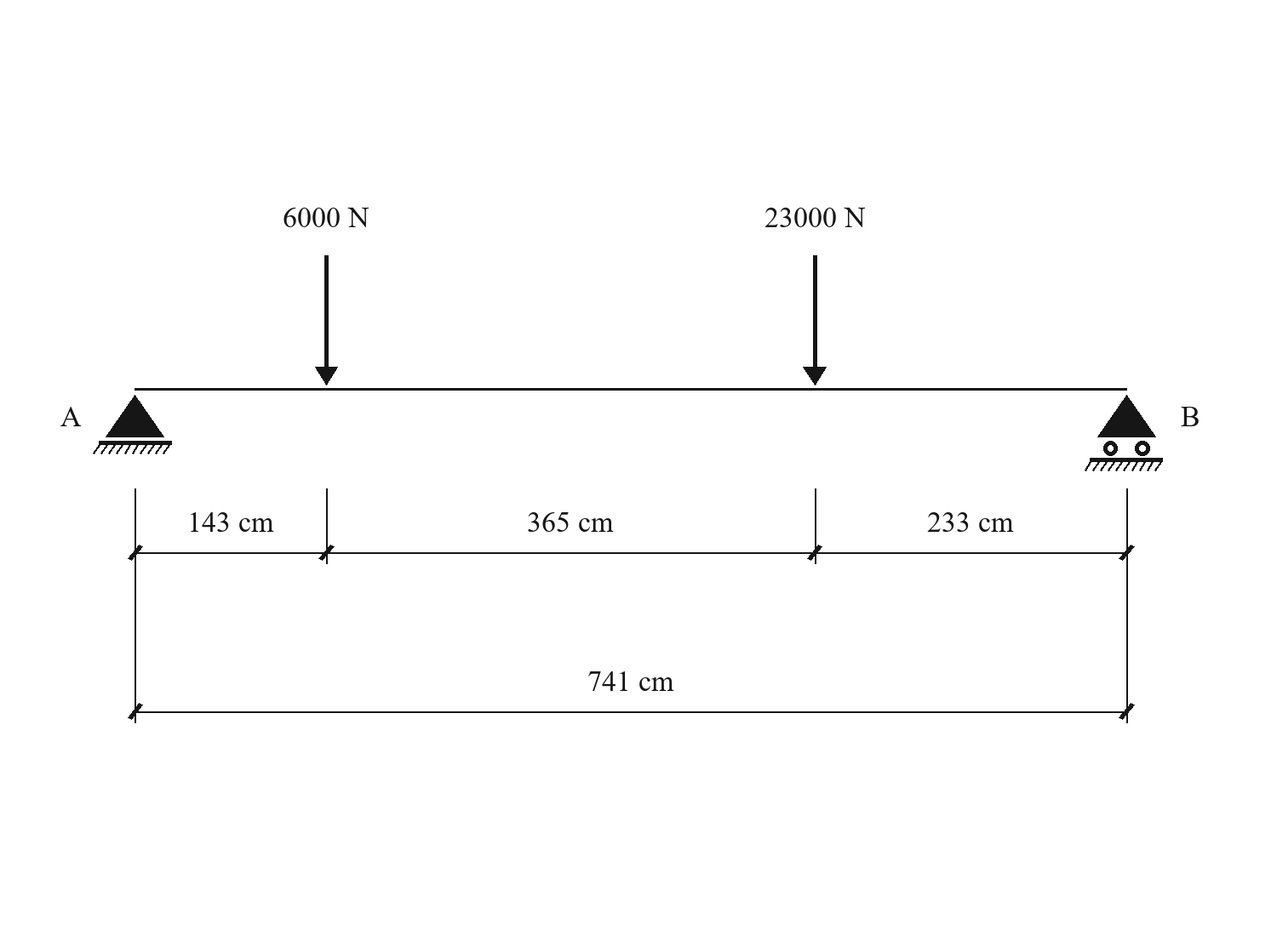pin_support: (93, 395, 172, 454)
point_load: (803, 255, 827, 385), (315, 255, 338, 385)
roller_support: (1085, 395, 1163, 471)
